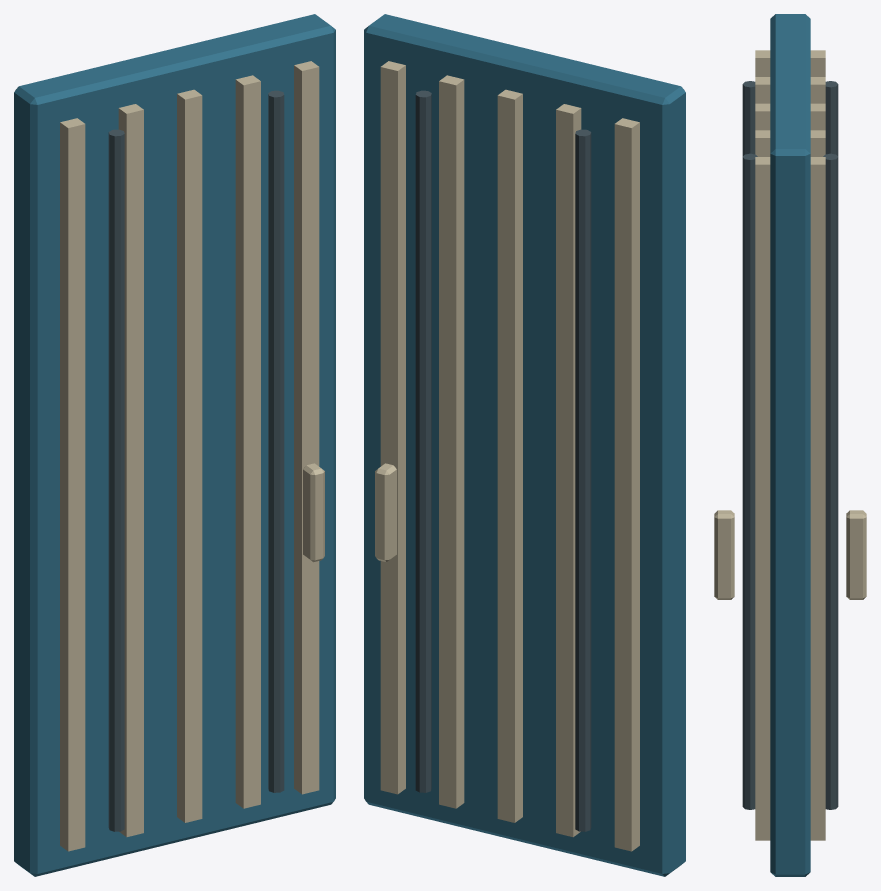
File: door_container.glb
3 renders of one model, left to right at view 1: azimuth 30°, elevation 25°; view 2: azimuth 150°, elevation 25°; view 3: azimuth 270°, elevation 25°, orthographic. The views are drawn at different scales.
Visible parts, largest first — view 1: door_container; view 2: door_container; view 3: door_container.
Boxes of the visible parts, x1,y1,x2,y2 form: door_container: [14, 14, 335, 876]; door_container: [364, 14, 685, 876]; door_container: [714, 14, 866, 876].
Bounding box in the file's own units: 1.15 × 2.8 × 0.53.
